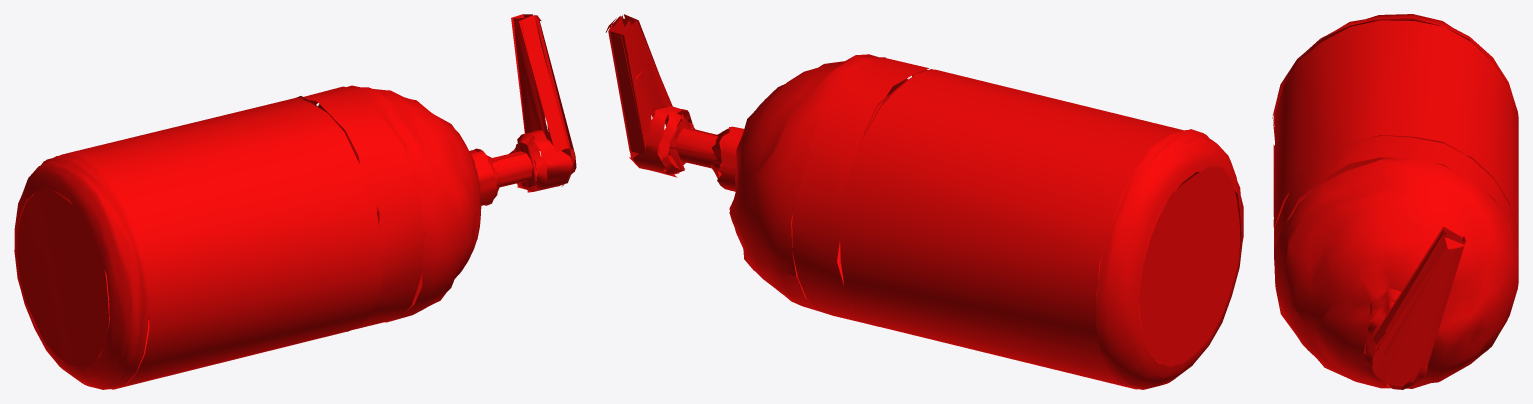
The picture shows the model from 3 angles, left to right: view 1: azimuth 30°, elevation 25°; view 2: azimuth 150°, elevation 25°; view 3: azimuth 270°, elevation 25°; orthographic projection. The views are drawn at different scales.
Visible parts, largest first — view 1: Renderer Node; view 2: Renderer Node; view 3: Renderer Node.
Part boxes in pixels (x1,y1,x2,y2): Renderer Node: [14, 14, 576, 389]; Renderer Node: [605, 14, 1243, 389]; Renderer Node: [1272, 14, 1518, 389].
Bounding box in the file's own units: 0.849 × 0.3786 × 0.353.
Materials: 1 (1 with a texture image).
